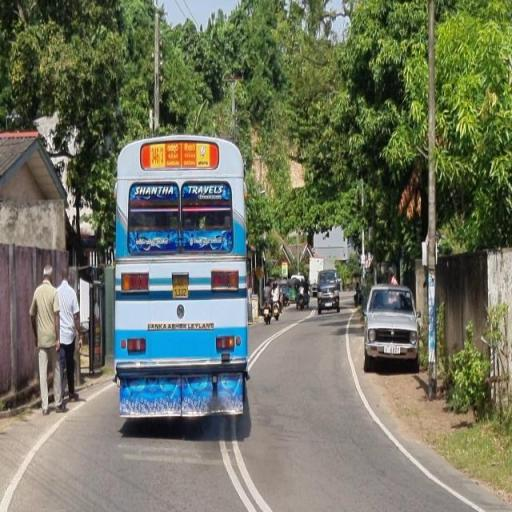double_white_line: (339, 321, 488, 510)
